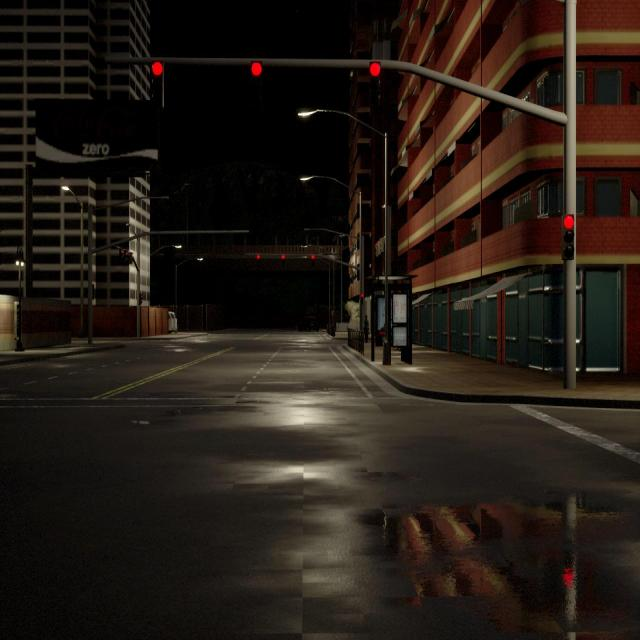Pedestrian: (364, 314, 371, 346)
Vehicle: (295, 313, 321, 334), (168, 311, 178, 333)
traffic_light: (152, 59, 164, 107), (562, 214, 574, 261), (251, 62, 263, 76), (370, 62, 380, 77), (138, 292, 142, 305), (119, 249, 123, 261), (360, 293, 364, 304), (125, 250, 128, 264), (130, 252, 133, 264), (281, 254, 285, 260), (311, 254, 315, 260), (256, 255, 260, 259)
